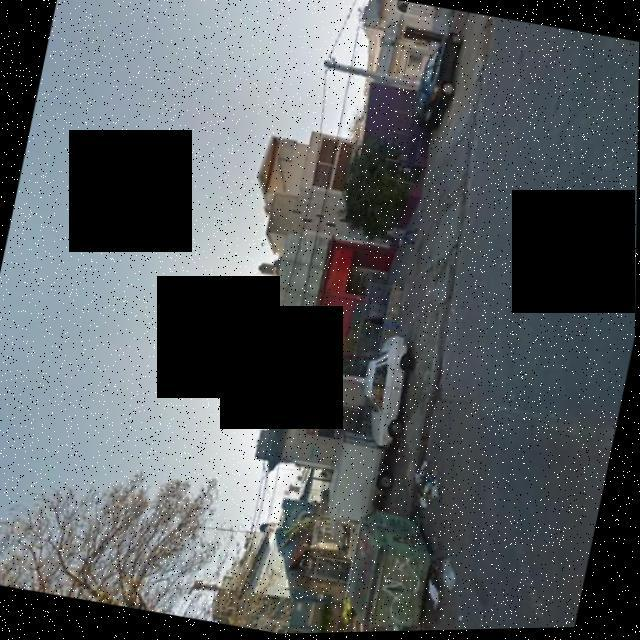bin: (323, 491, 462, 634)
